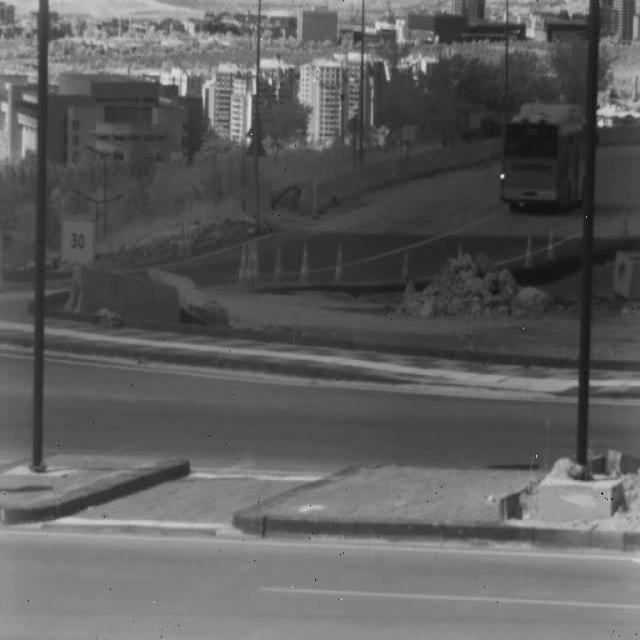Bus: (499, 101, 587, 211)
